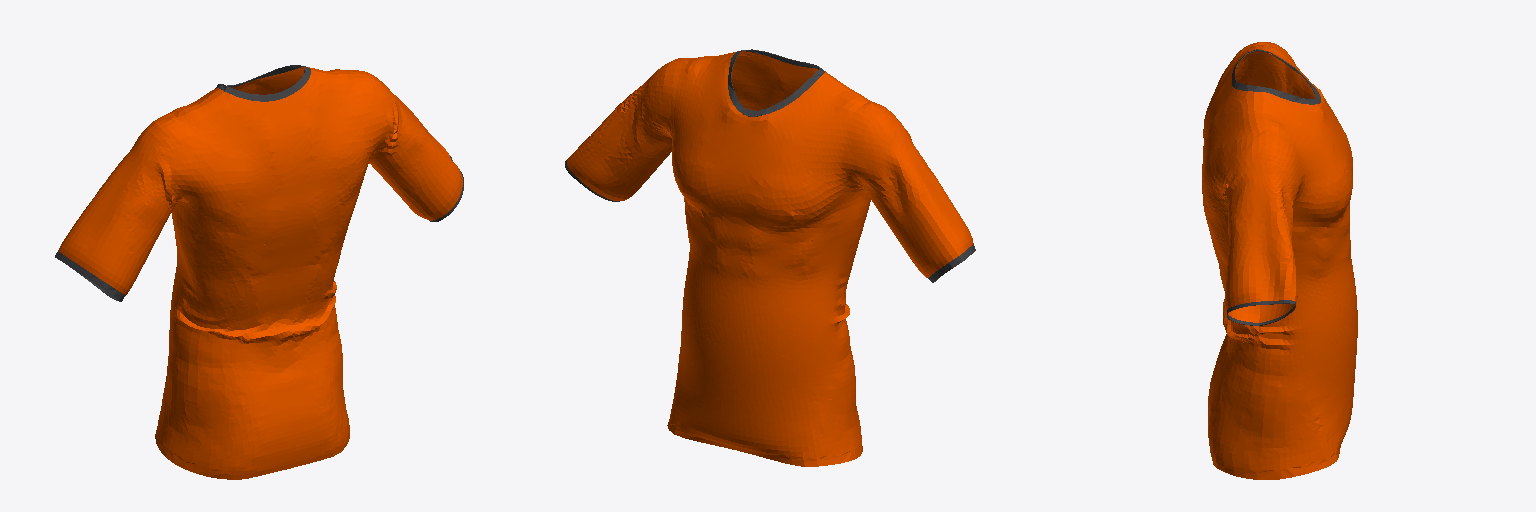
The model's file is t-shirt_v2.obj.
The picture shows the model from 3 angles: view 1: azimuth 30°, elevation 25°; view 2: azimuth 150°, elevation 25°; view 3: azimuth 270°, elevation 25°; orthographic projection.
Visible parts, largest first — view 1: t_shirt3, Object001, Object003; view 2: t_shirt3, Object001; view 3: t_shirt3, Object001.
Boxes of the visible parts, x1,y1,x2,y2 form: t_shirt3: [58, 67, 462, 479]; Object001: [215, 65, 310, 101]; Object003: [55, 251, 124, 301]; t_shirt3: [567, 51, 973, 466]; Object001: [728, 49, 824, 116]; t_shirt3: [1202, 42, 1357, 479]; Object001: [1232, 49, 1320, 104].
Size of the model in its own units: 30.64 by 27.8 by 10.4.